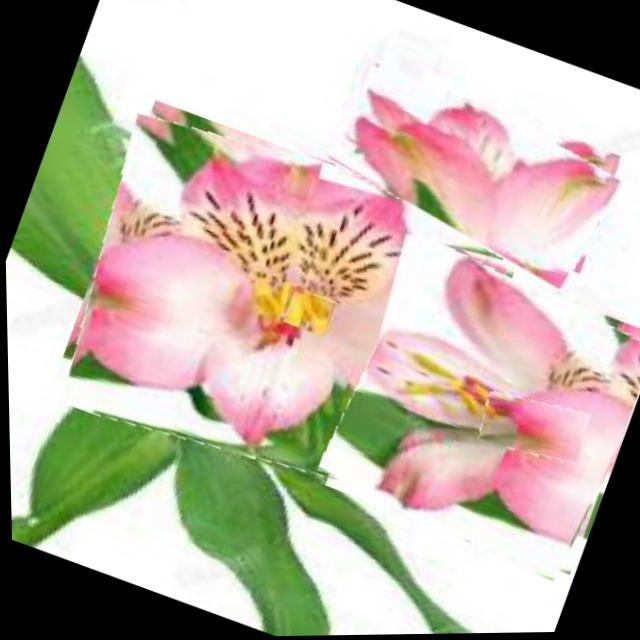Flower: (38, 87, 540, 536), (309, 236, 640, 588), (318, 52, 632, 292), (472, 383, 592, 476), (277, 286, 338, 341)
